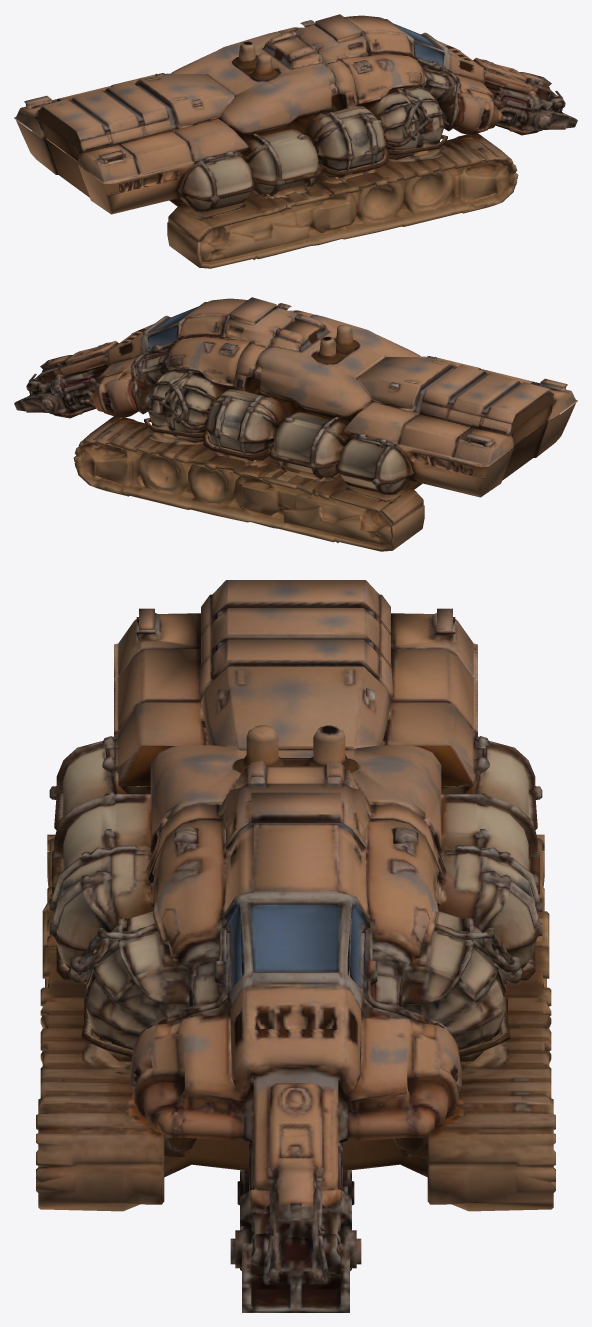
The model's file is HARVESTER_2.glb.
3 renders of one model, top to bottom at view 1: azimuth 30°, elevation 25°; view 2: azimuth 150°, elevation 25°; view 3: azimuth 270°, elevation 25°, orthographic. The views are drawn at different scales.
Parts seen in each view (by area): view 1: tripo_node_e1fe02c4-2c06-4e75-b383-e1491a9e792b; view 2: tripo_node_e1fe02c4-2c06-4e75-b383-e1491a9e792b; view 3: tripo_node_e1fe02c4-2c06-4e75-b383-e1491a9e792b.
Boxes of the visible parts, bbox=[...] form: tripo_node_e1fe02c4-2c06-4e75-b383-e1491a9e792b: bbox=[14, 14, 577, 268]; tripo_node_e1fe02c4-2c06-4e75-b383-e1491a9e792b: bbox=[14, 297, 577, 551]; tripo_node_e1fe02c4-2c06-4e75-b383-e1491a9e792b: bbox=[36, 580, 555, 1312].
Size of the model in its own units: 0.977 by 0.2893 by 0.4348.
Materials: 1 (1 with a texture image).
